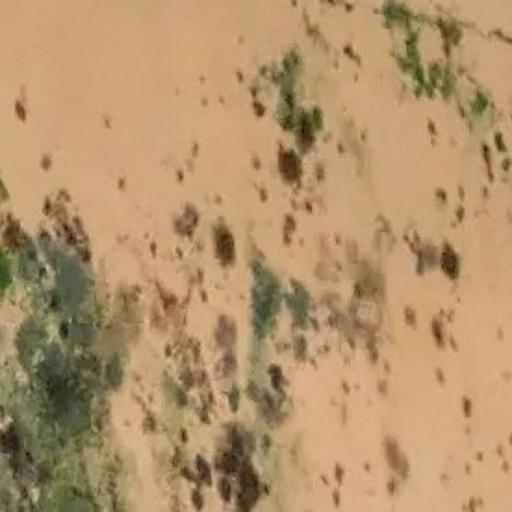algae: (10, 38, 512, 512)
